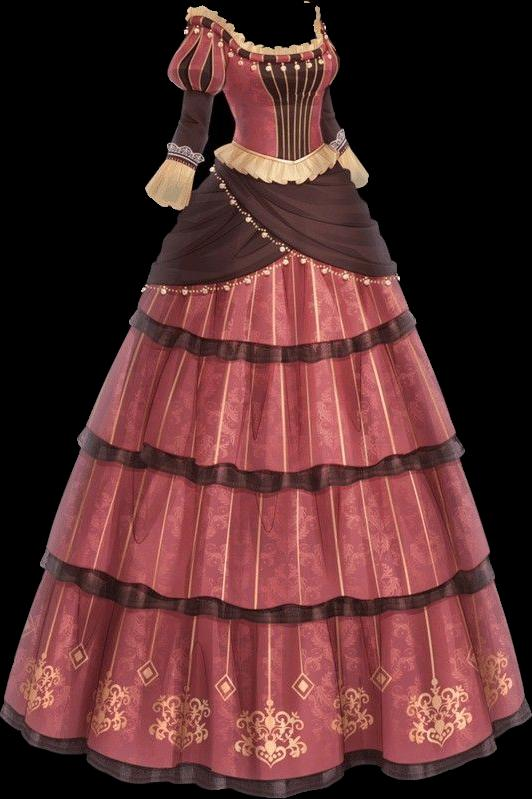Bodice: (224, 32, 333, 162)
Hemline: (0, 707, 531, 798), (40, 561, 498, 628), (214, 165, 402, 284), (75, 441, 466, 497), (126, 317, 420, 372), (142, 247, 293, 290), (215, 153, 340, 188)
Neckline: (231, 30, 325, 53)
Skirt: (0, 140, 531, 797)
Sleeve: (145, 5, 236, 209)
Sleeveline: (183, 1, 238, 97), (168, 151, 197, 165)
Waistline: (231, 134, 330, 162)
